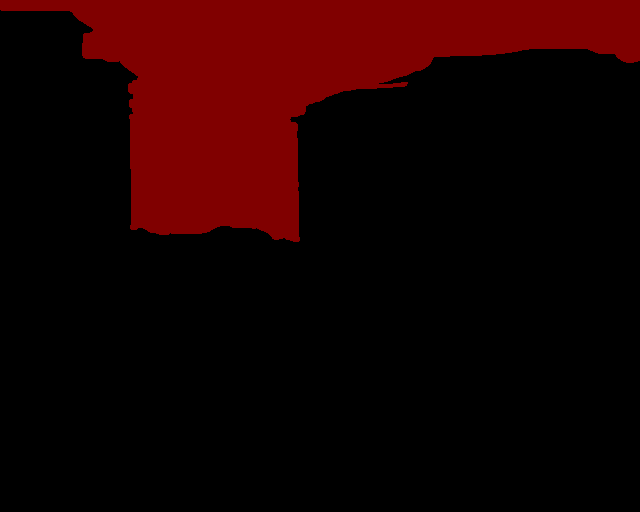Sky: (1, 1, 639, 242)
